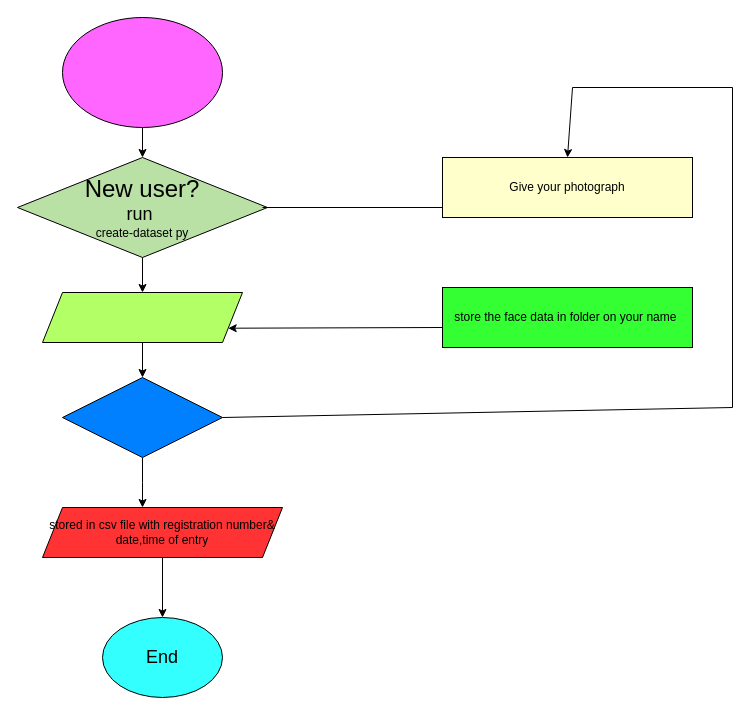
This 751x715 diagram has some shape labels left out. The centre of each missing label's shape, as x and y in pixels:
face Recognize: point 142,417
Recognize the face: point 142,317
start: point 142,72
